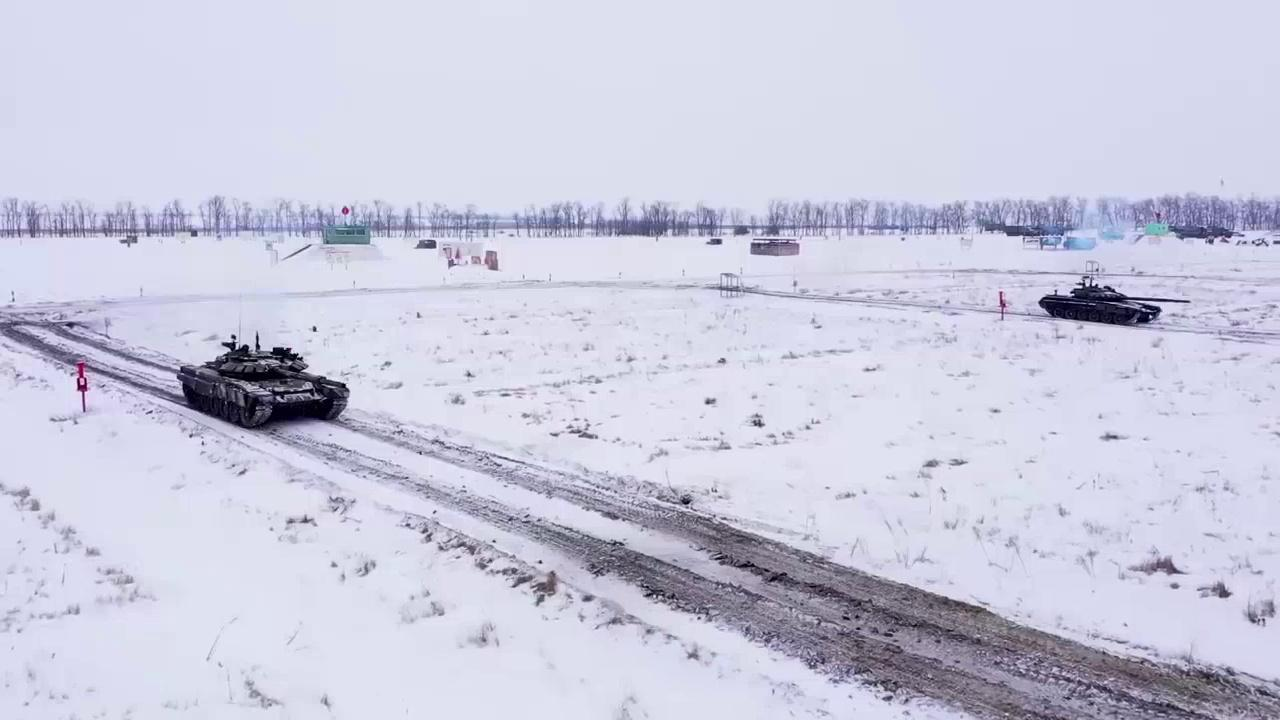tank: (177, 332, 351, 430), (1038, 275, 1192, 326)
